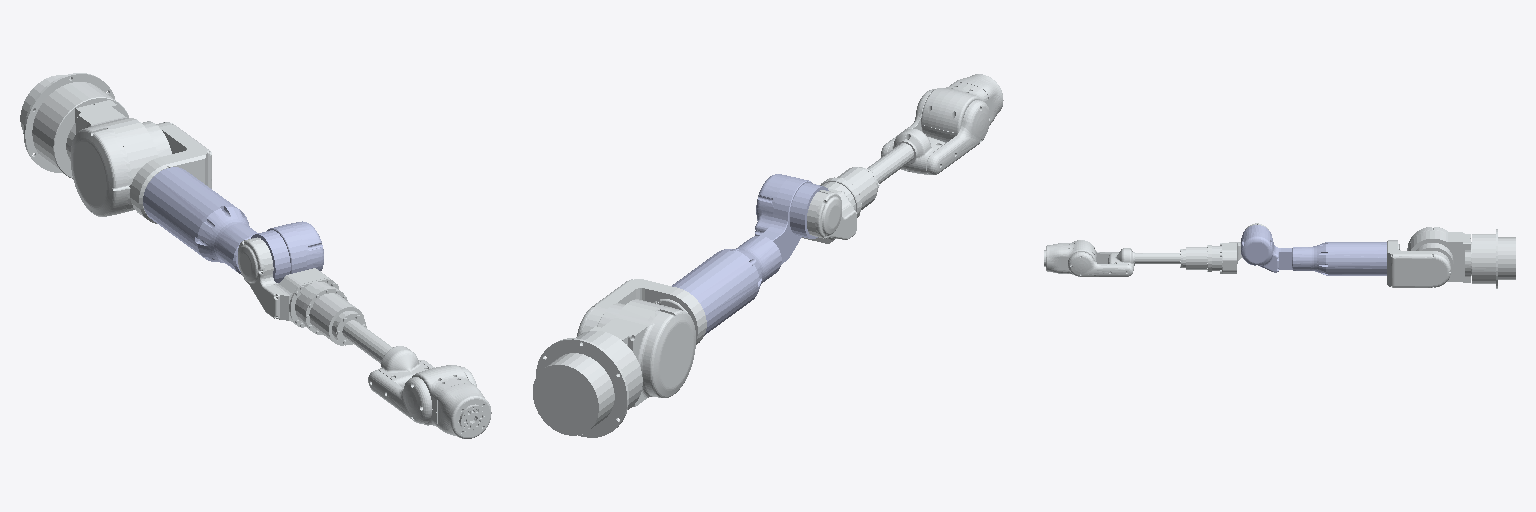
URDF robot description (SF-Simple Assy.SLDASM):
<?xml version="1.0" encoding="utf-8"?>
<!-- This URDF was automatically created by SolidWorks to URDF Exporter! Originally created by Stephen Brawner (brawner@gmail.com) 
     Commit Version: 1.6.0-4-g7f85cfe  Build Version: 1.6.7995.38578
     For more information, please see http://wiki.ros.org/sw_urdf_exporter -->
<robot
  name="SF-Simple Assy.SLDASM">
  <link
    name="base_link">
    <inertial>
      <origin
        xyz="-6.79459056739323E-19 -0.0167075093959976 9.23592606617703E-19"
        rpy="0 0 0" />
      <mass
        value="3.97641777694951" />
      <inertia
        ixx="0.00837023456024301"
        ixy="1.33580211227112E-19"
        ixz="-3.55946157339225E-20"
        iyy="0.00795420661764505"
        iyz="3.1197777554465E-20"
        izz="0.00837023456024301" />
    </inertial>
    <visual>
      <origin
        xyz="0 0 0"
        rpy="0 0 0" />
      <geometry>
        <mesh
          filename="meshes/base_link.STL" />
      </geometry>
      <material
        name="">
        <color
          rgba="0.898039215686275 0.917647058823529 0.929411764705882 1" />
      </material>
    </visual>
    <collision>
      <origin
        xyz="0 0 0"
        rpy="0 0 0" />
      <geometry>
        <mesh
          filename="meshes/base_link.STL" />
      </geometry>
    </collision>
  </link>
  <link
    name="link1">
    <inertial>
      <origin
        xyz="0.014907 -1.208E-06 0.084104"
        rpy="0 0 0" />
      <mass
        value="2.298" />
      <inertia
        ixx="0.007085"
        ixy="-6.7292E-08"
        ixz="-0.00064797"
        iyy="0.0056458"
        iyz="-2.5052E-07"
        izz="0.0037759" />
    </inertial>
    <visual>
      <origin
        xyz="0 0 0"
        rpy="0 0 0" />
      <geometry>
        <mesh
          filename="meshes/link1.STL" />
      </geometry>
      <material
        name="">
        <color
          rgba="0.89804 0.91765 0.92941 1" />
      </material>
    </visual>
    <collision>
      <origin
        xyz="0 0 0"
        rpy="0 0 0" />
      <geometry>
        <mesh
          filename="meshes/link1.STL" />
      </geometry>
    </collision>
  </link>
  <joint
    name="joint1"
    type="revolute">
    <origin
      xyz="0 -0.07 0"
      rpy="1.5708 0 0" />
    <parent
      link="base_link" />
    <child
      link="link1" />
    <axis
      xyz="0 0 1" />
    <limit
      lower="-3.1416"
      upper="3.1416"
      effort="119"
      velocity="4" />
  </joint>
  <link
    name="link2">
    <inertial>
      <origin
        xyz="0.038981 3.5662E-06 -0.076799"
        rpy="0 0 0" />
      <mass
        value="1.0171" />
      <inertia
        ixx="0.0024552"
        ixy="1.249E-07"
        ixz="-0.00057078"
        iyy="0.0025682"
        iyz="1.3294E-07"
        izz="0.0019327" />
    </inertial>
    <visual>
      <origin
        xyz="0 0 0"
        rpy="0 0 0" />
      <geometry>
        <mesh
          filename="meshes/link2.STL" />
      </geometry>
      <material
        name="">
        <color
          rgba="0.89804 0.91765 0.92941 1" />
      </material>
    </visual>
    <collision>
      <origin
        xyz="0 0 0"
        rpy="0 0 0" />
      <geometry>
        <mesh
          filename="meshes/link2.STL" />
      </geometry>
    </collision>
  </link>
  <joint
    name="joint2"
    type="revolute">
    <origin
      xyz="0 0 0.1"
      rpy="3.1416 0 0" />
    <parent
      link="link1" />
    <child
      link="link2" />
    <axis
      xyz="1 0 0" />
    <limit
      lower="-3.1416"
      upper="3.1416"
      effort="119"
      velocity="4" />
  </joint>
  <link
    name="link3">
    <inertial>
      <origin
        xyz="0.0019176 0.0079738 0.17635"
        rpy="0 0 0" />
      <mass
        value="1.7453" />
      <inertia
        ixx="0.0070886"
        ixy="-3.4078E-05"
        ixz="4.9995E-05"
        iyy="0.0069173"
        iyz="0.000152"
        izz="0.0015377" />
    </inertial>
    <visual>
      <origin
        xyz="0 0 0"
        rpy="0 0 0" />
      <geometry>
        <mesh
          filename="meshes/link3.STL" />
      </geometry>
      <material
        name="">
        <color
          rgba="0.79216 0.81961 0.93333 1" />
      </material>
    </visual>
    <collision>
      <origin
        xyz="0 0 0"
        rpy="0 0 0" />
      <geometry>
        <mesh
          filename="meshes/link3.STL" />
      </geometry>
    </collision>
  </link>
  <joint
    name="joint3"
    type="revolute">
    <origin
      xyz="0 0 -0.46"
      rpy="0 0 -3.1416" />
    <parent
      link="link2" />
    <child
      link="link3" />
    <axis
      xyz="0 0 1" />
    <limit
      lower="-3.1416"
      upper="3.1416"
      effort="40"
      velocity="5" />
  </joint>
  <link
    name="link4">
    <inertial>
      <origin
        xyz="0.037105 0.0066227 -0.11033"
        rpy="0 0 0" />
      <mass
        value="1.2917" />
      <inertia
        ixx="0.0034459"
        ixy="9.6777E-05"
        ixz="0.00028301"
        iyy="0.0033251"
        iyz="-0.00048229"
        izz="0.0011113" />
    </inertial>
    <visual>
      <origin
        xyz="0 0 0"
        rpy="0 0 0" />
      <geometry>
        <mesh
          filename="meshes/link4.STL" />
      </geometry>
      <material
        name="">
        <color
          rgba="0.89804 0.91765 0.92941 1" />
      </material>
    </visual>
    <collision>
      <origin
        xyz="0 0 0"
        rpy="0 0 0" />
      <geometry>
        <mesh
          filename="meshes/link4.STL" />
      </geometry>
    </collision>
  </link>
  <joint
    name="joint4"
    type="revolute">
    <origin
      xyz="0.002 0.04 0"
      rpy="0 0 -1.5708" />
    <parent
      link="link3" />
    <child
      link="link4" />
    <axis
      xyz="0 -1 0" />
    <limit
      lower="-3.1416"
      upper="3.1416"
      effort="40"
      velocity="5" />
  </joint>
  <link
    name="link5">
    <inertial>
      <origin
        xyz="-0.092211 0.0089049 -0.00086349"
        rpy="0 0 0" />
      <mass
        value="0.62628" />
      <inertia
        ixx="0.00021365"
        ixy="8.566E-05"
        ixz="-3.8752E-06"
        iyy="0.0011006"
        iyz="1.2602E-06"
        izz="0.0011295" />
    </inertial>
    <visual>
      <origin
        xyz="0 0 0"
        rpy="0 0 0" />
      <geometry>
        <mesh
          filename="meshes/link5.STL" />
      </geometry>
      <material
        name="">
        <color
          rgba="0.89804 0.91765 0.92941 1" />
      </material>
    </visual>
    <collision>
      <origin
        xyz="0 0 0"
        rpy="0 0 0" />
      <geometry>
        <mesh
          filename="meshes/link5.STL" />
      </geometry>
    </collision>
  </link>
  <joint
    name="joint5"
    type="revolute">
    <origin
      xyz="0.04 0 -0.46"
      rpy="1.5708 1.5708 0" />
    <parent
      link="link4" />
    <child
      link="link5" />
    <axis
      xyz="1 0 0" />
    <limit
      lower="-3.1416"
      upper="3.1416"
      effort="5"
      velocity="10" />
  </joint>
  <link
    name="link6">
    <inertial>
      <origin
        xyz="0.0020093 8.6337E-05 0.03585"
        rpy="0 0 0" />
      <mass
        value="0.38563" />
      <inertia
        ixx="0.00030236"
        ixy="1.1519E-07"
        ixz="1.5695E-05"
        iyy="0.00034232"
        iyz="-7.4503E-07"
        izz="0.00030742" />
    </inertial>
    <visual>
      <origin
        xyz="0 0 0"
        rpy="0 0 0" />
      <geometry>
        <mesh
          filename="meshes/link6.STL" />
      </geometry>
      <material
        name="">
        <color
          rgba="0.89804 0.91765 0.92941 1" />
      </material>
    </visual>
    <collision>
      <origin
        xyz="0 0 0"
        rpy="0 0 0" />
      <geometry>
        <mesh
          filename="meshes/link6.STL" />
      </geometry>
    </collision>
  </link>
  <joint
    name="joint6"
    type="revolute">
    <origin
      xyz="0 0 0"
      rpy="0 1.5708 0" />
    <parent
      link="link5" />
    <child
      link="link6" />
    <axis
      xyz="1 0 0" />
    <limit
      lower="-3.1416"
      upper="3.1416"
      effort="5"
      velocity="10" />
  </joint>
  <link
    name="link7">
    <inertial>
      <origin
        xyz="7.0869E-05 2.3644E-16 0.0033245"
        rpy="0 0 0" />
      <mass
        value="0.01963" />
      <inertia
        ixx="2.565E-06"
        ixy="-1.2755E-21"
        ixz="-2.3309E-09"
        iyy="2.5372E-06"
        iyz="1.4679E-22"
        izz="4.938E-06" />
    </inertial>
    <visual>
      <origin
        xyz="0 0 0"
        rpy="0 0 0" />
      <geometry>
        <mesh
          filename="meshes/link7.STL" />
      </geometry>
      <material
        name="">
        <color
          rgba="0.89804 0.91765 0.92941 1" />
      </material>
    </visual>
    <collision>
      <origin
        xyz="0 0 0"
        rpy="0 0 0" />
      <geometry>
        <mesh
          filename="meshes/link7.STL" />
      </geometry>
    </collision>
  </link>
  <joint
    name="joint7"
    type="revolute">
    <origin
      xyz="0 0 0.089"
      rpy="0 0 0" />
    <parent
      link="link6" />
    <child
      link="link7" />
    <axis
      xyz="0 0 -1" />
    <limit
      lower="-3.1416"
      upper="3.1416"
      effort="5"
      velocity="10" />
  </joint>
</robot>

--- Facts derived from the render (not from the file) ---
The picture shows the robot from 3 angles, left to right: view 1: azimuth 30°, elevation 25°; view 2: azimuth 150°, elevation 25°; view 3: azimuth 270°, elevation 25°; orthographic projection.
Robot: SF-Simple Assy.SLDASM — 8 links, 7 joints (7 revolute); root link base_link; default pose: every joint at zero.
Visible links, largest first — view 1: link3, link1, link4, base_link, link5, link6, link2, link7; view 2: base_link, link3, link1, link5, link4, link6, link2; view 3: link3, link2, base_link, link5, link1, link4, link6.
Boxes of the visible links, x1,y1,x2,y2 form: link3: (143,167,323,282); link1: (66,100,171,216); link4: (238,237,364,345); base_link: (20,73,128,178); link5: (335,313,476,423); link6: (412,365,491,438); link2: (130,122,211,223); link7: (459,404,485,431); base_link: (533,331,642,437); link3: (672,174,828,335); link1: (590,299,695,406); link5: (859,89,989,191); link4: (802,167,876,243); link6: (921,74,1003,142); link2: (577,279,706,344); link3: (1241,225,1386,275); link2: (1387,240,1450,287); base_link: (1471,229,1515,288); link5: (1068,248,1182,276); link1: (1407,227,1470,282); link4: (1183,223,1268,273); link6: (1046,240,1096,274).
Bounding box of the posed robot: 0.162 × 1.23 × 0.161 m (x, y, z).
Meshes: 8 distinct files referenced, 8 mesh visuals loaded (8 binary STL).
